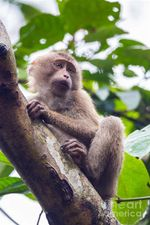monkey: (25, 32, 132, 214)
